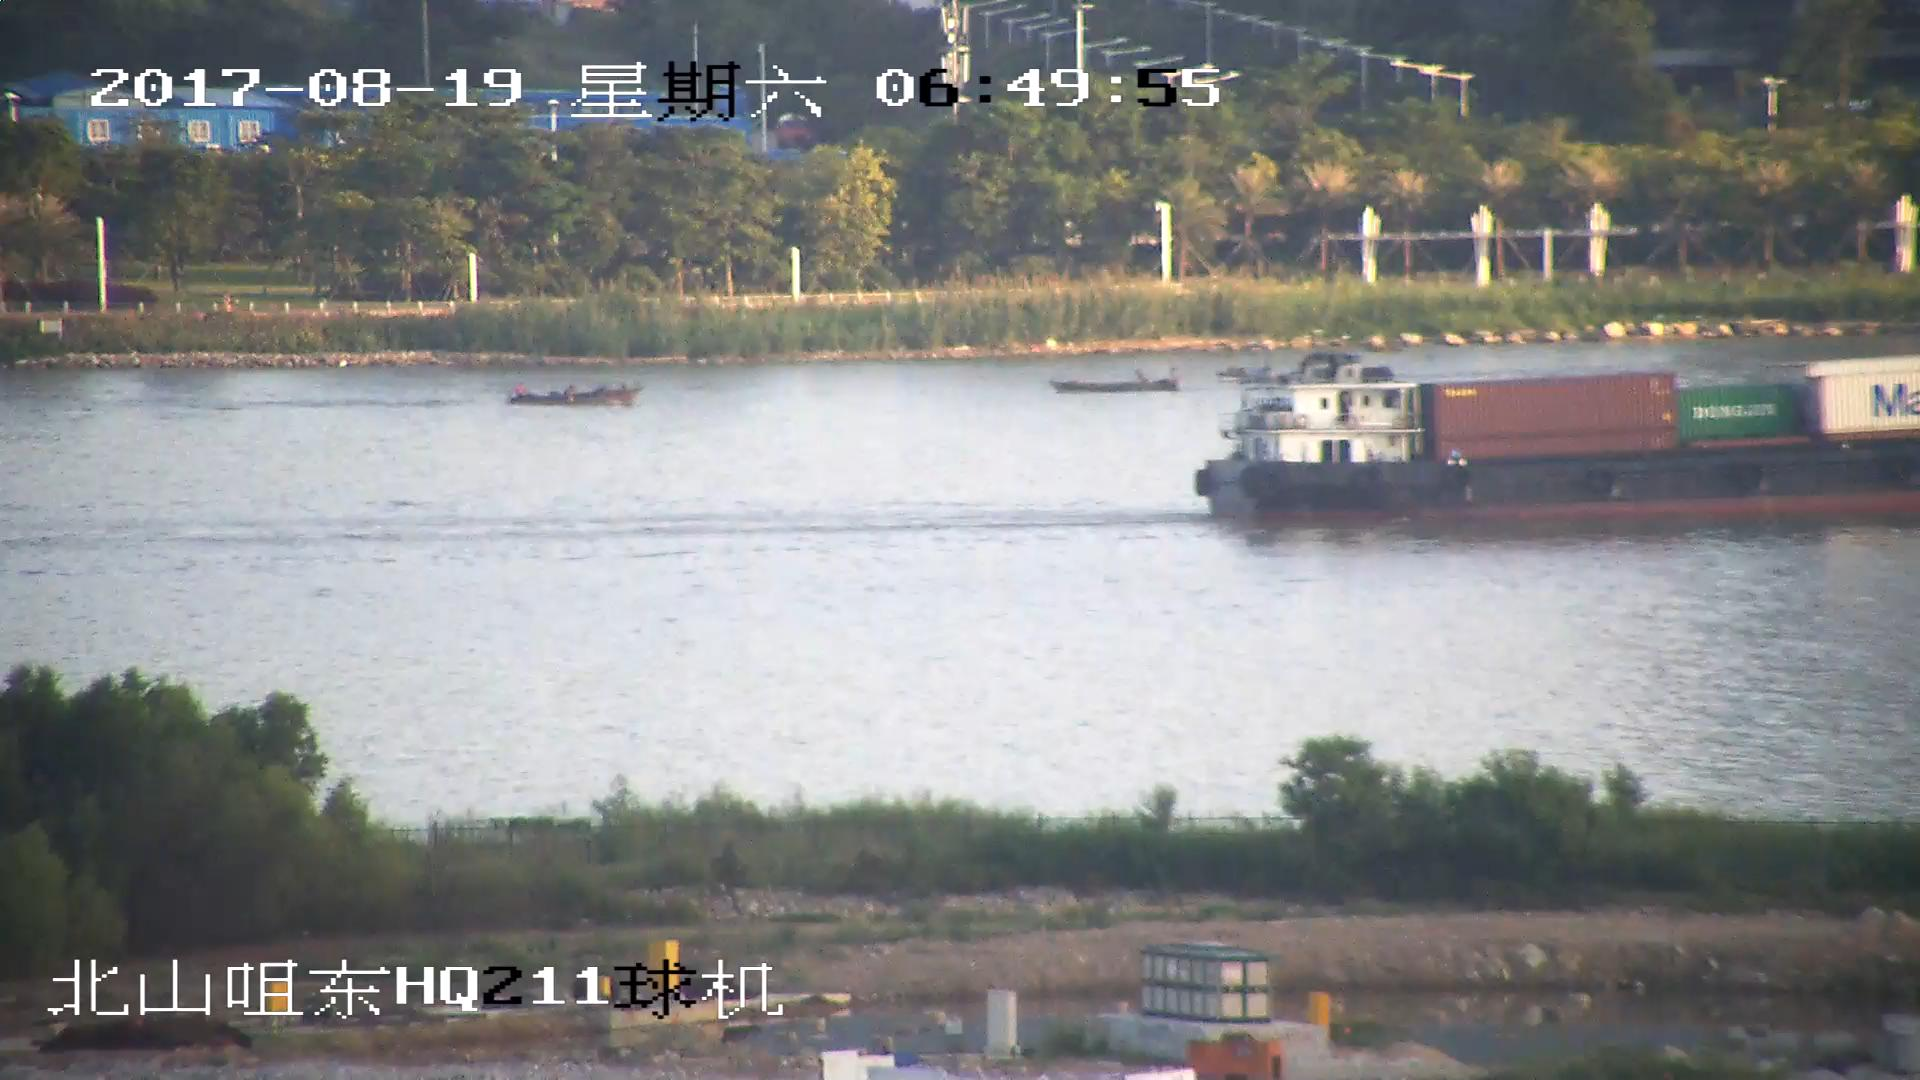container ship: (1193, 360, 1920, 532)
fishing boat: (507, 377, 642, 409), (1052, 369, 1182, 397)
